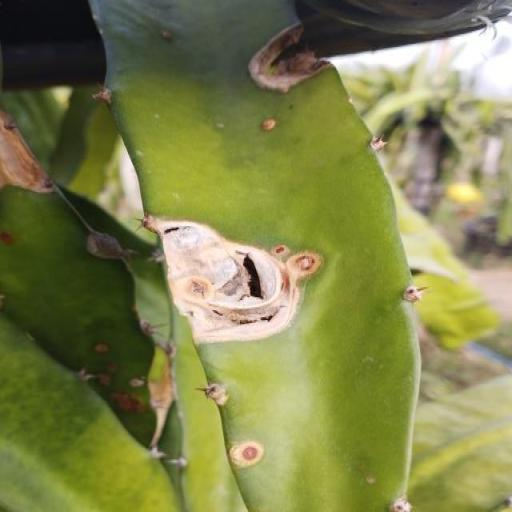stemcanker: (257, 112, 282, 135), (154, 27, 178, 46), (271, 241, 290, 258)
